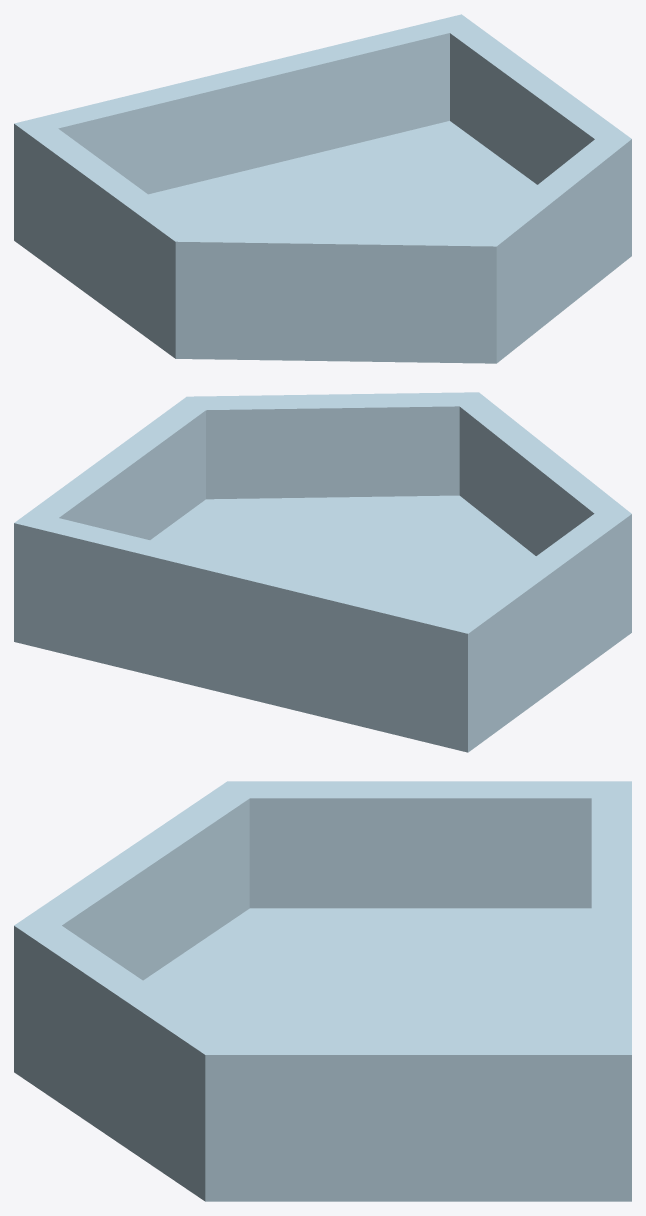
The model's file is endwall_2.glb.
3 renders of one model, top to bottom at view 1: azimuth 30°, elevation 25°; view 2: azimuth 150°, elevation 25°; view 3: azimuth 270°, elevation 25°, orthographic. The views are drawn at different scales.
Visible parts, largest first — view 1: endwall; view 2: endwall; view 3: endwall.
Boxes of the visible parts, x1=… form: endwall: x1=14, y1=14, x2=631, y2=363; endwall: x1=14, y1=392, x2=631, y2=752; endwall: x1=14, y1=781, x2=631, y2=1201.
Size of the model in its own units: 4.8 by 1.2 by 4.58.
